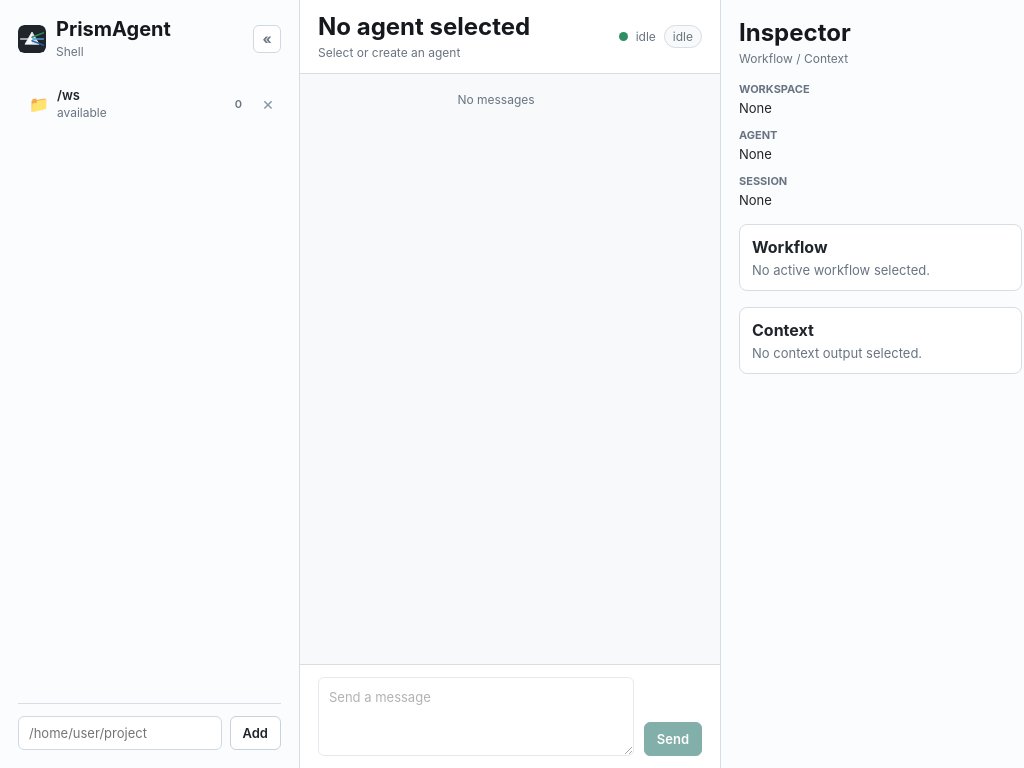
Test case: waits for subscription readiness and reconciles overlapping frames on initial load and reconnect
Double-click the text titled "/ws" at [68, 95], box top-left (57, 87), bottom-right (80, 103)
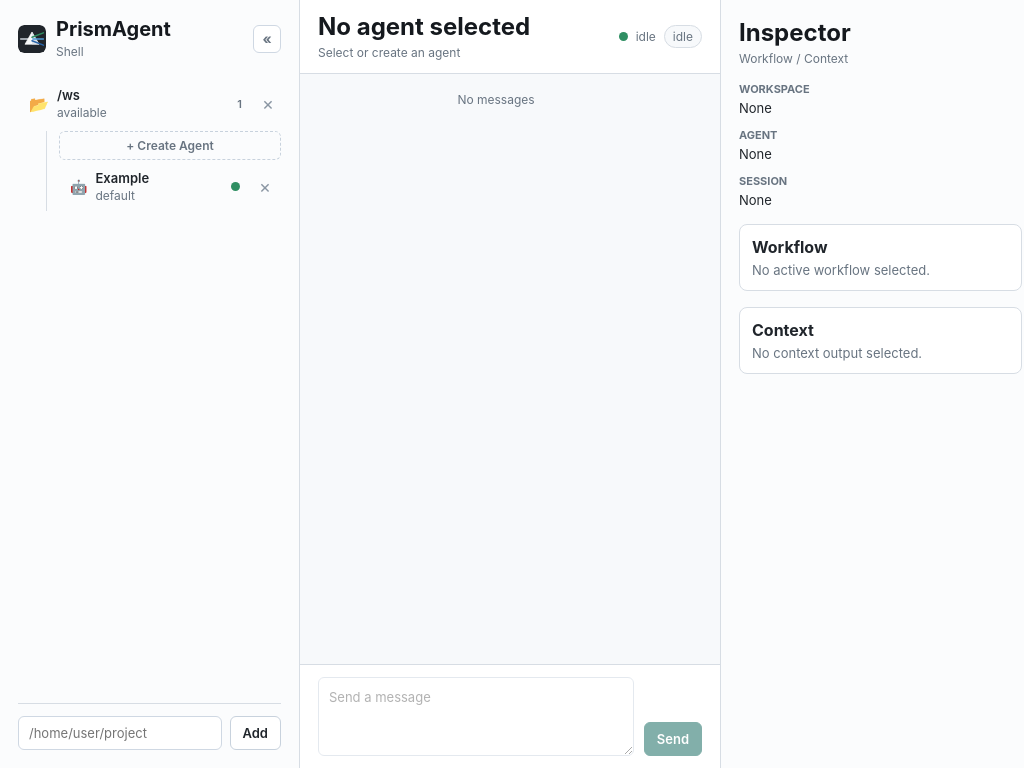
Click the text "Example". click: [122, 178]
box: top-left (96, 170), bottom-right (149, 186)
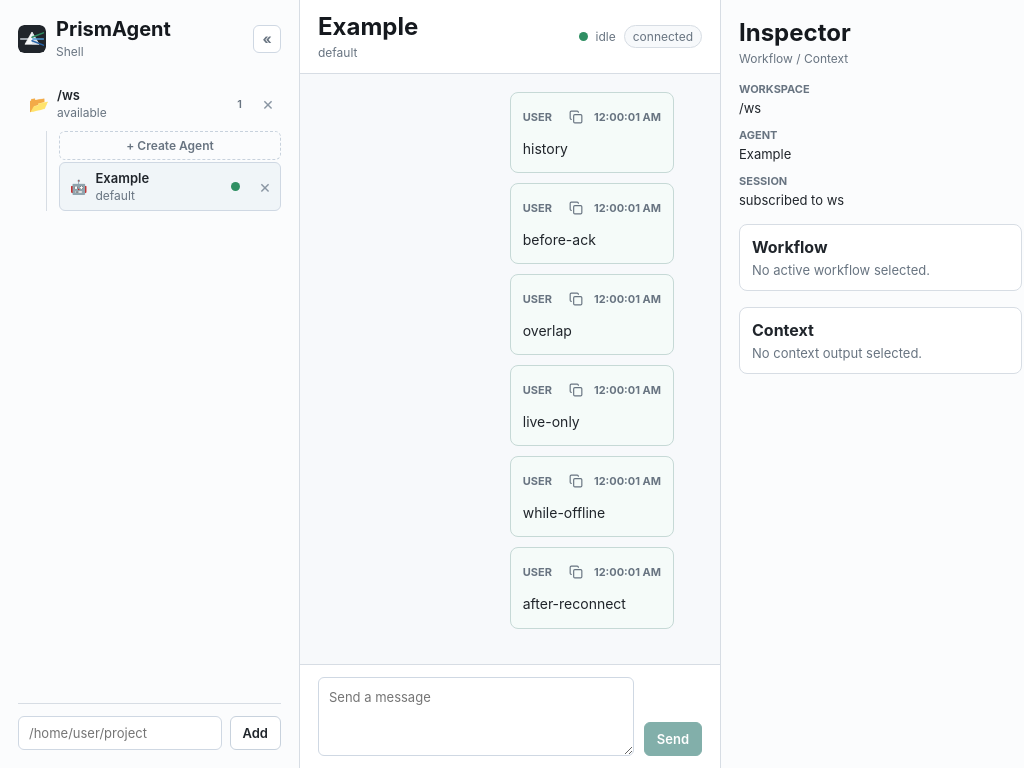
Expected: the text "history" is shown once, top-left (523, 140), bottom-right (568, 157)
Expected: the text "before-ack" is shown once, top-left (523, 231), bottom-right (596, 248)
Expected: the text "overlap" is shown once, top-left (523, 322), bottom-right (572, 339)
